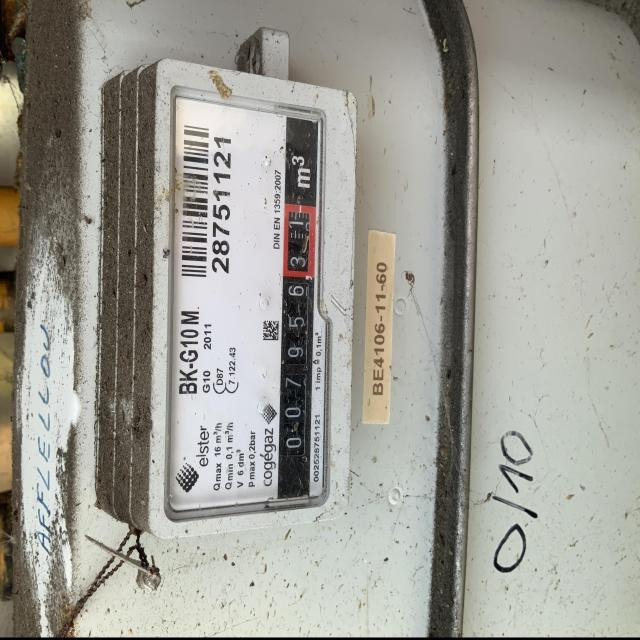gaz_meter: (170, 93, 332, 509)
indication: (279, 204, 314, 456)
